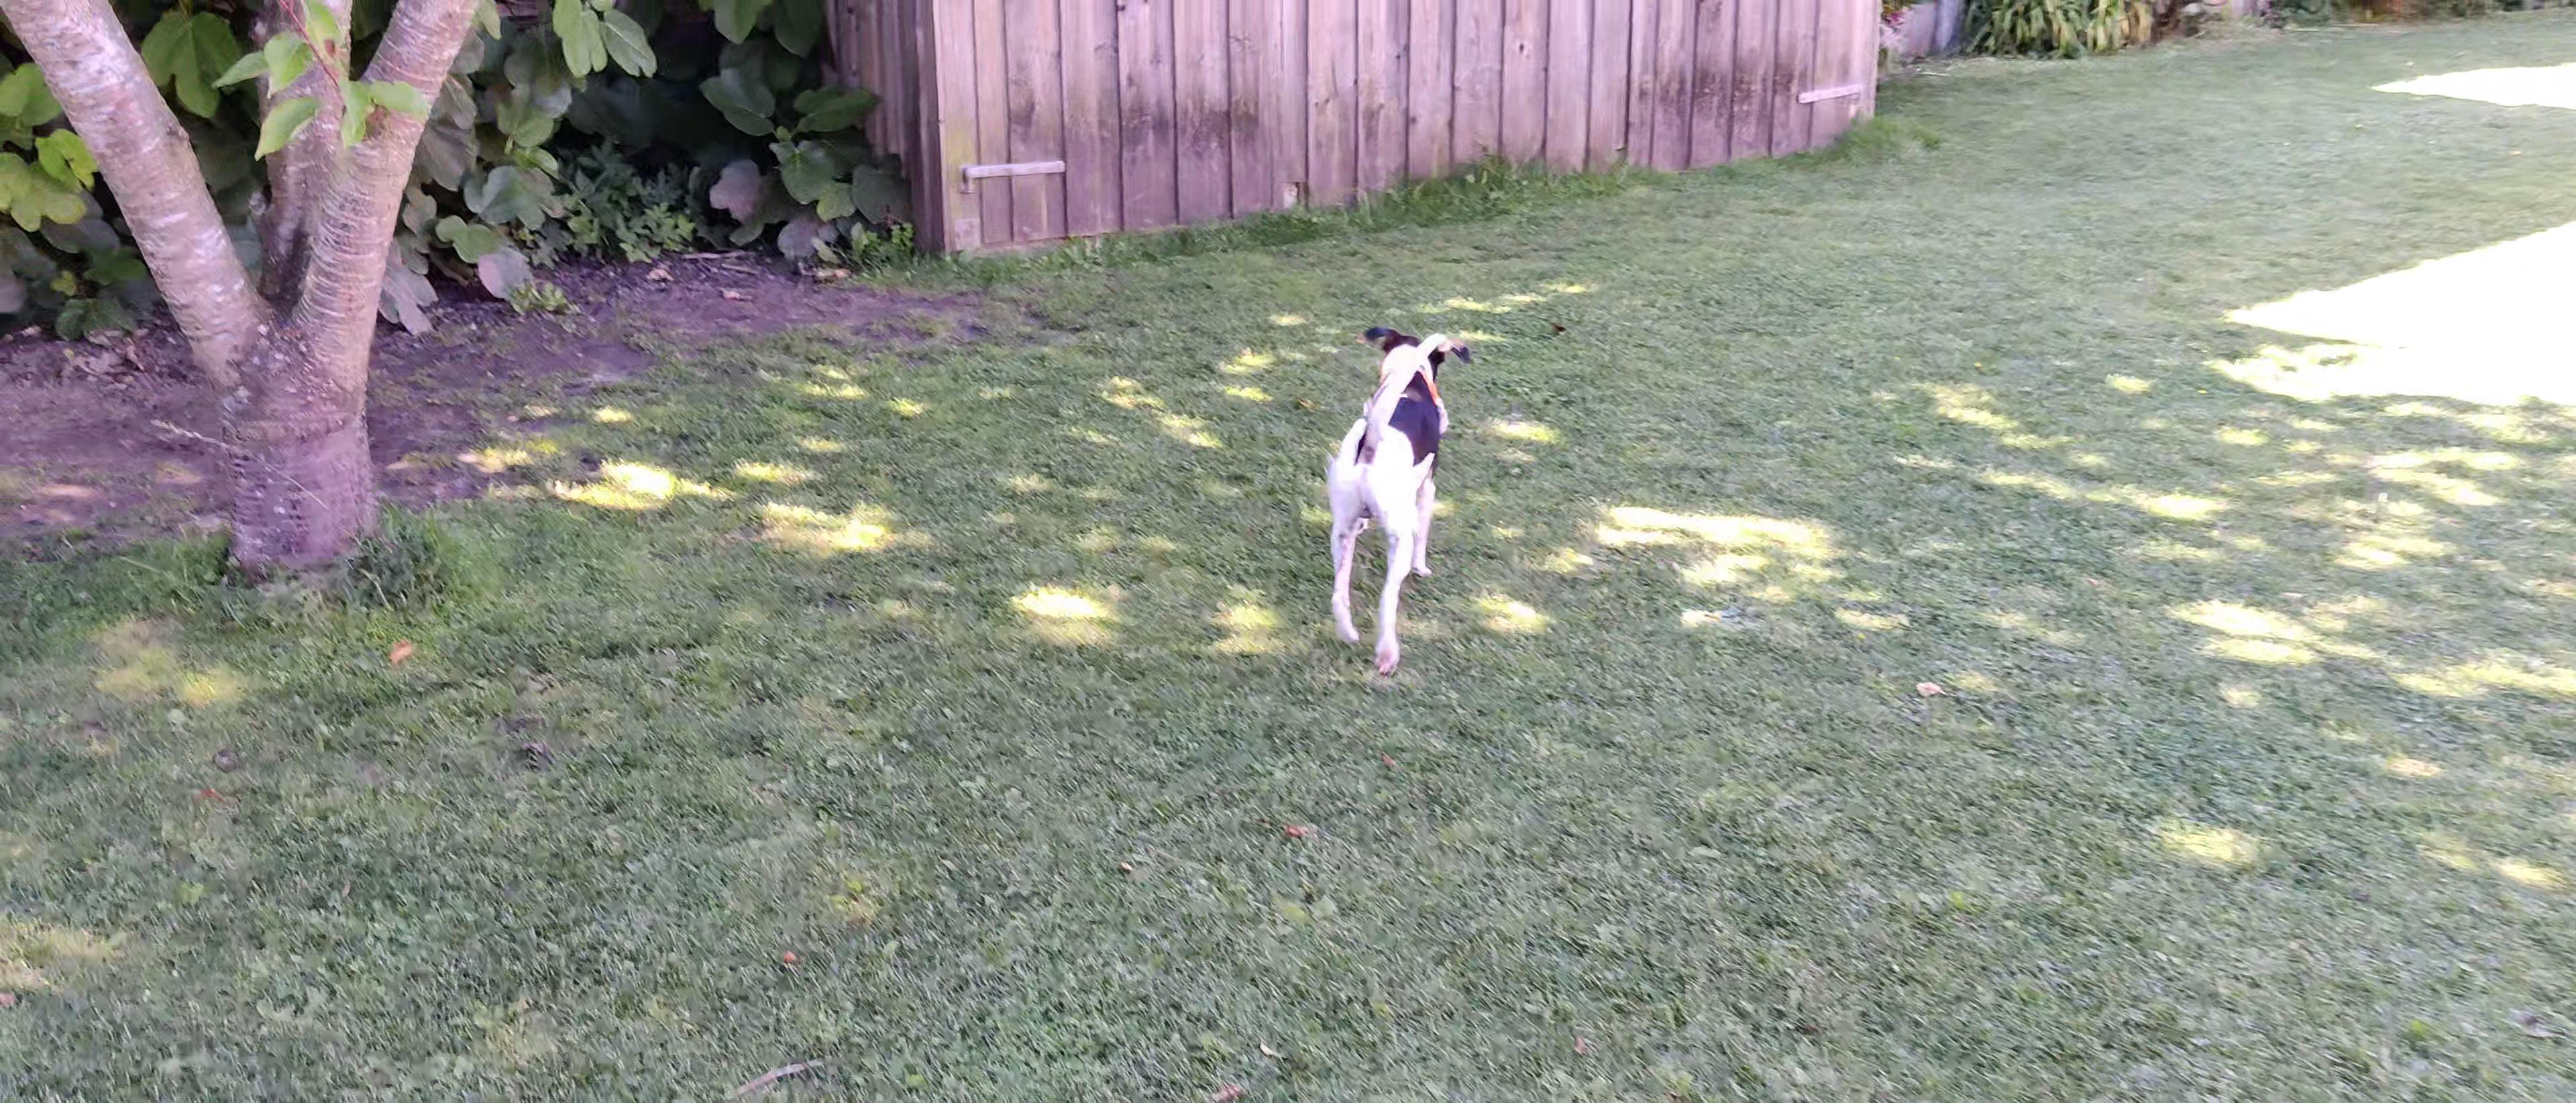Dog: (1318, 319, 1483, 679), (1485, 492, 1497, 501)
